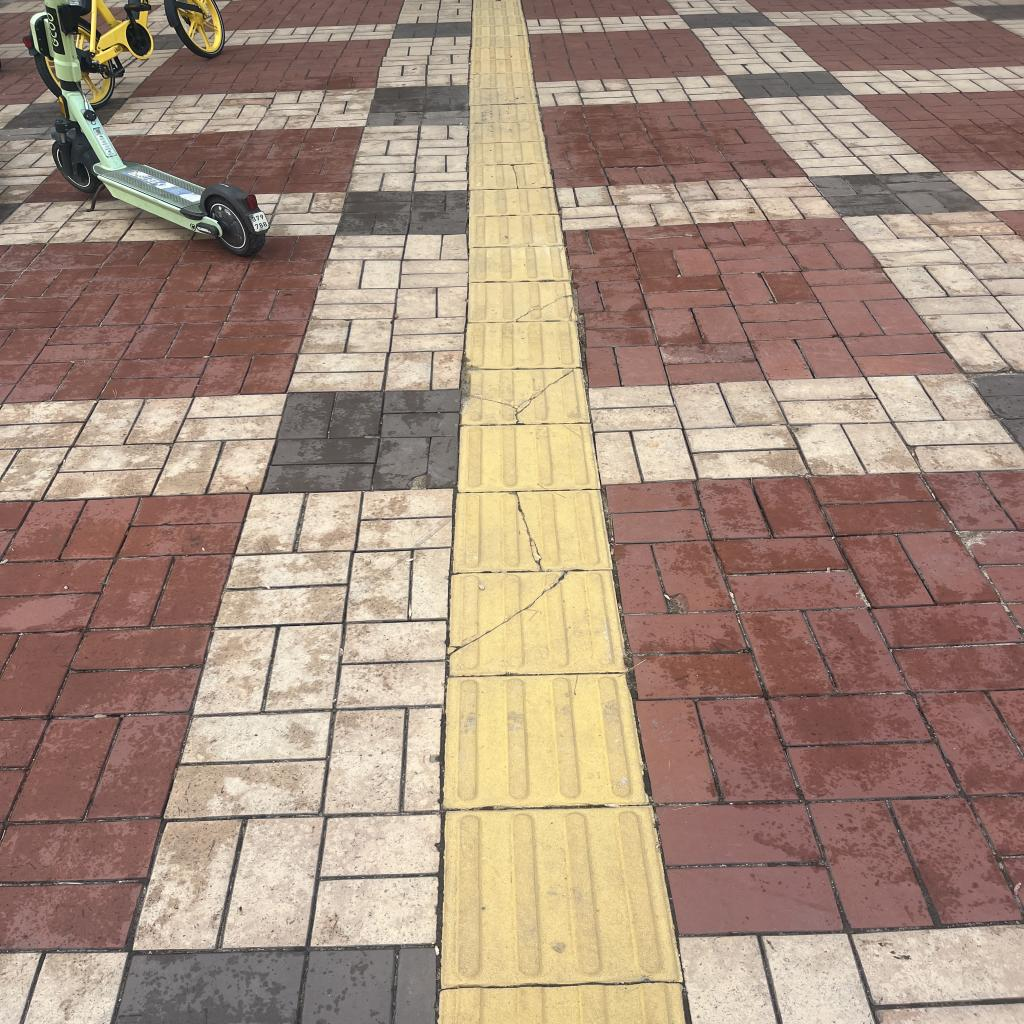Straight block broken: (447, 571, 628, 675), (452, 490, 612, 571), (461, 369, 588, 424), (468, 281, 576, 323)
Straight block normal: (440, 671, 648, 809)
